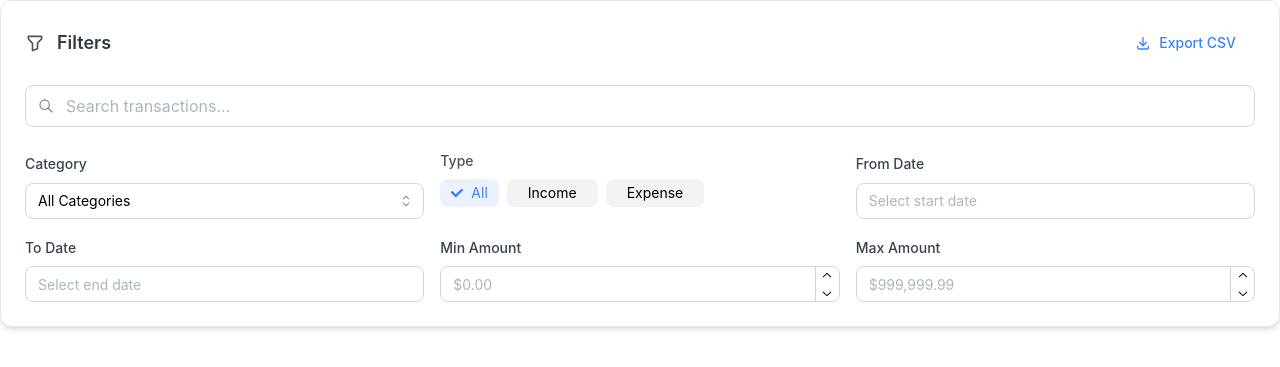
TransactionFilters › should validate amount range (min should not be greater than max)
Set max amount first
Type "50" into the field labelled "Max Amount" at (1055, 284), box [856, 266, 1255, 302]
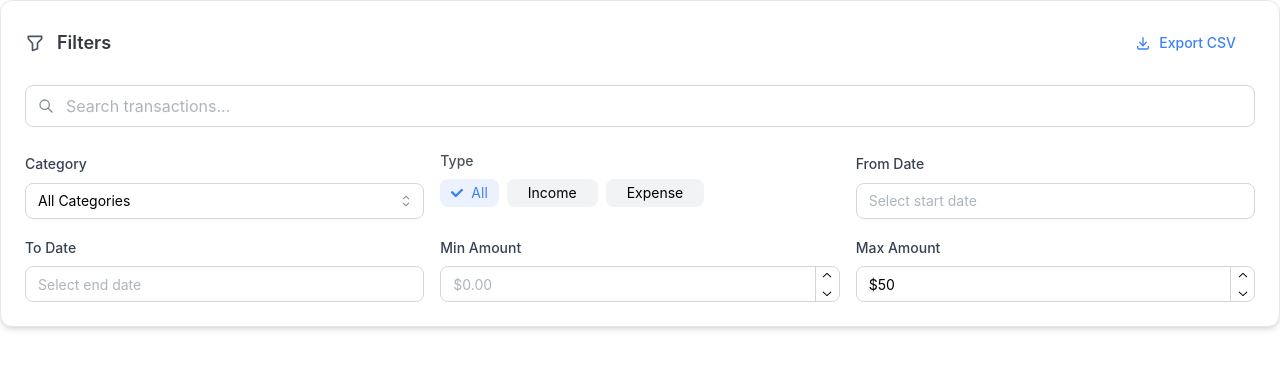
Set min amount greater than max
Type "100" into the field labelled "Min Amount" at (640, 284), box [440, 266, 840, 302]
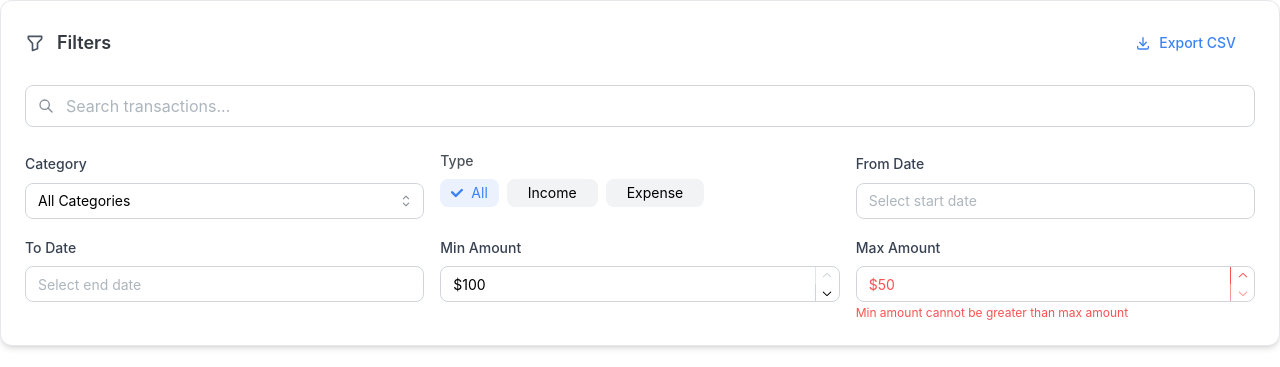
Now the text "Min amount cannot be greater than max amount" is shown, box [856, 305, 1128, 320]
